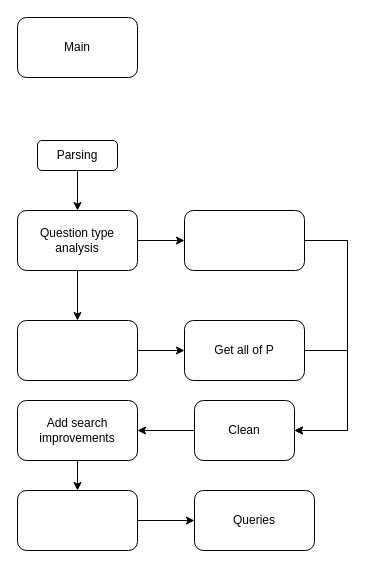
This 373x568 diagram has some shape labels left out. Here are the shapes that lost their labels. From the top down, the box of each, then its label:
(184, 210, 304, 270): Get Q
(16, 320, 138, 380): Get P-root
(16, 490, 138, 550): Properties & subjects
